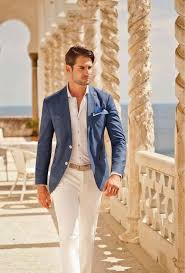F_M_suit jacket: (34, 85, 134, 192)
F_belt: (57, 155, 109, 178)
